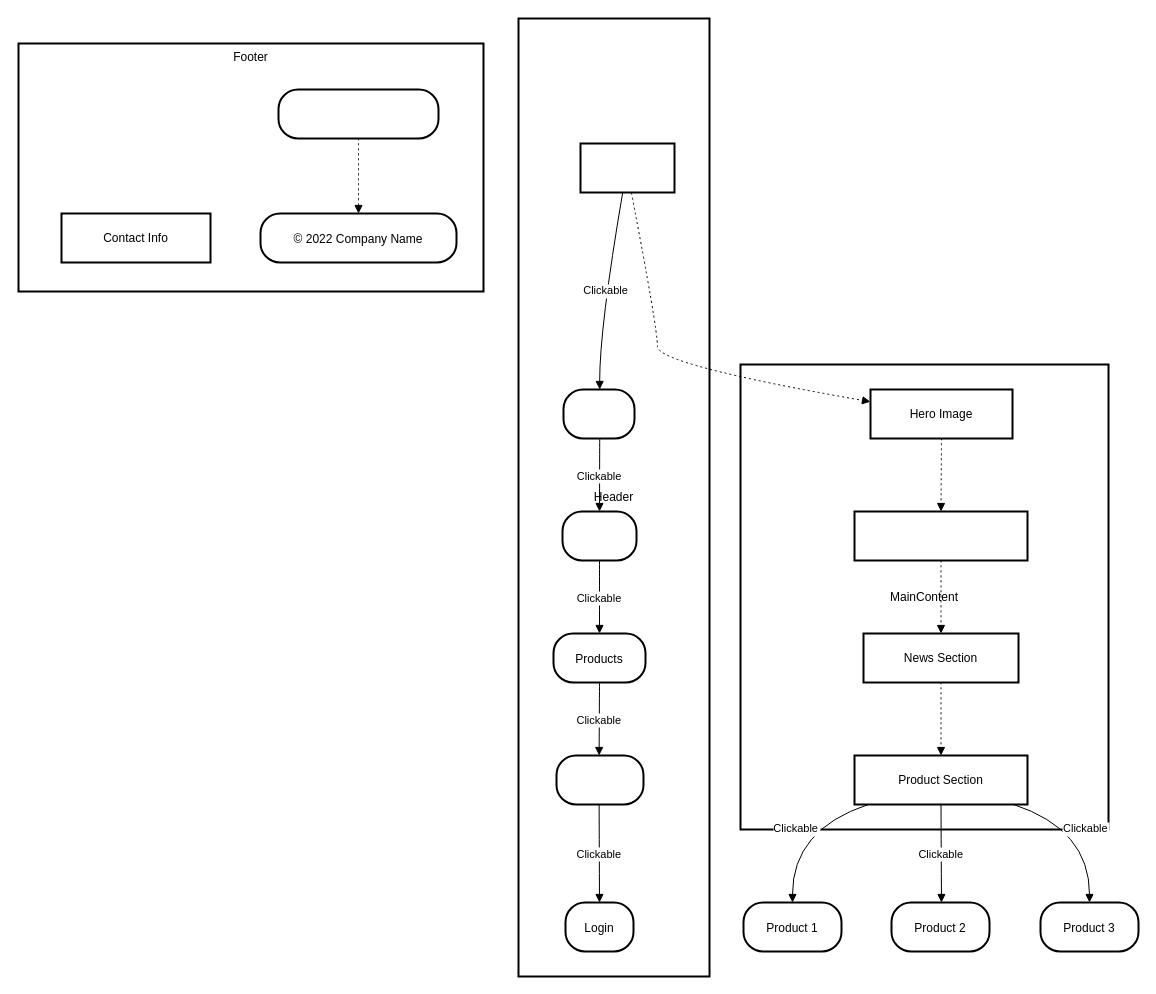
This 1156x994 diagram has some shape labels left out. The centre of each missing label's shape, as x and y in pixels:
"About" belongs at point 599,535.
"Contact" belongs at point 599,779.
"Feature Section" belongs at point 940,535.
"Home" belongs at point 598,413.
"Logo" belongs at point 627,167.
"Social Media Icons" belongs at point 358,113.
